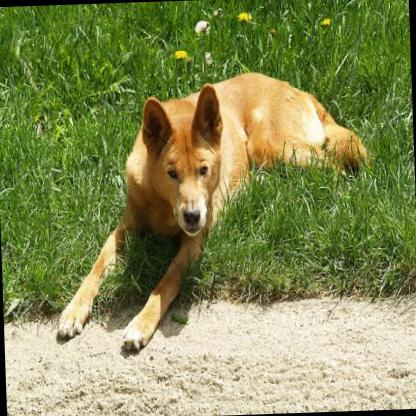dingo: (45, 63, 373, 356)
